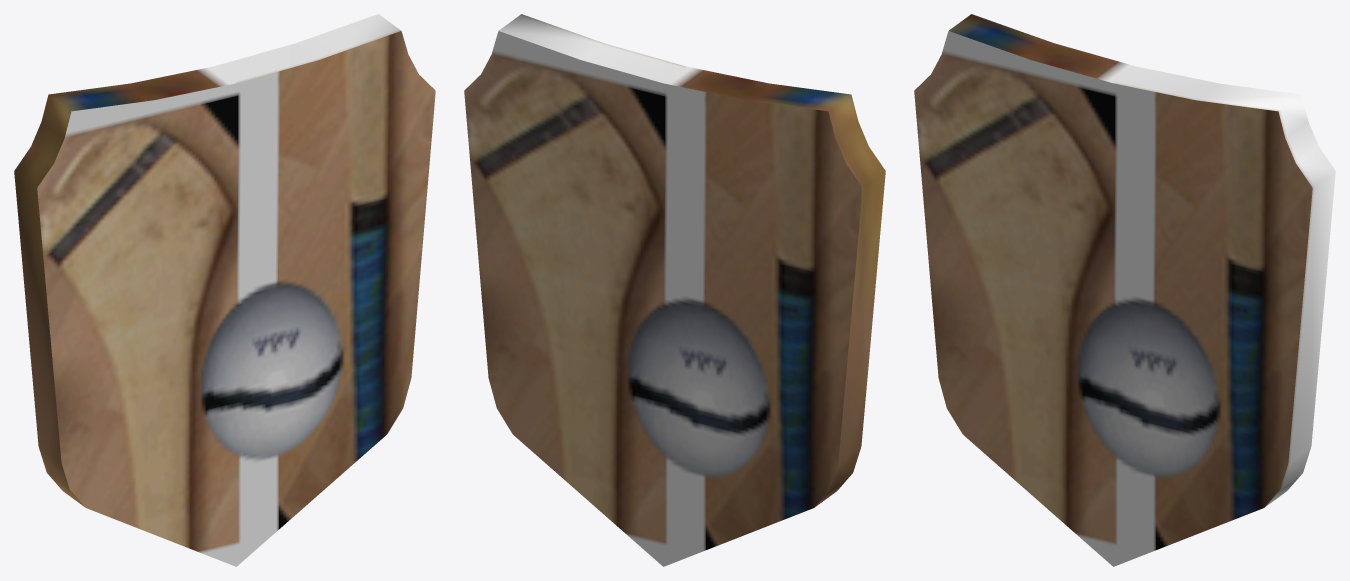
The model's file is icon_n.ico.obj.
3 views of the same model, side by side, from view 1: azimuth 30°, elevation 25°; view 2: azimuth 150°, elevation 25°; view 3: azimuth 330°, elevation 25° (orthographic).
Bounding box in the file's own units: 4.1 × 4.88 × 0.4111.
